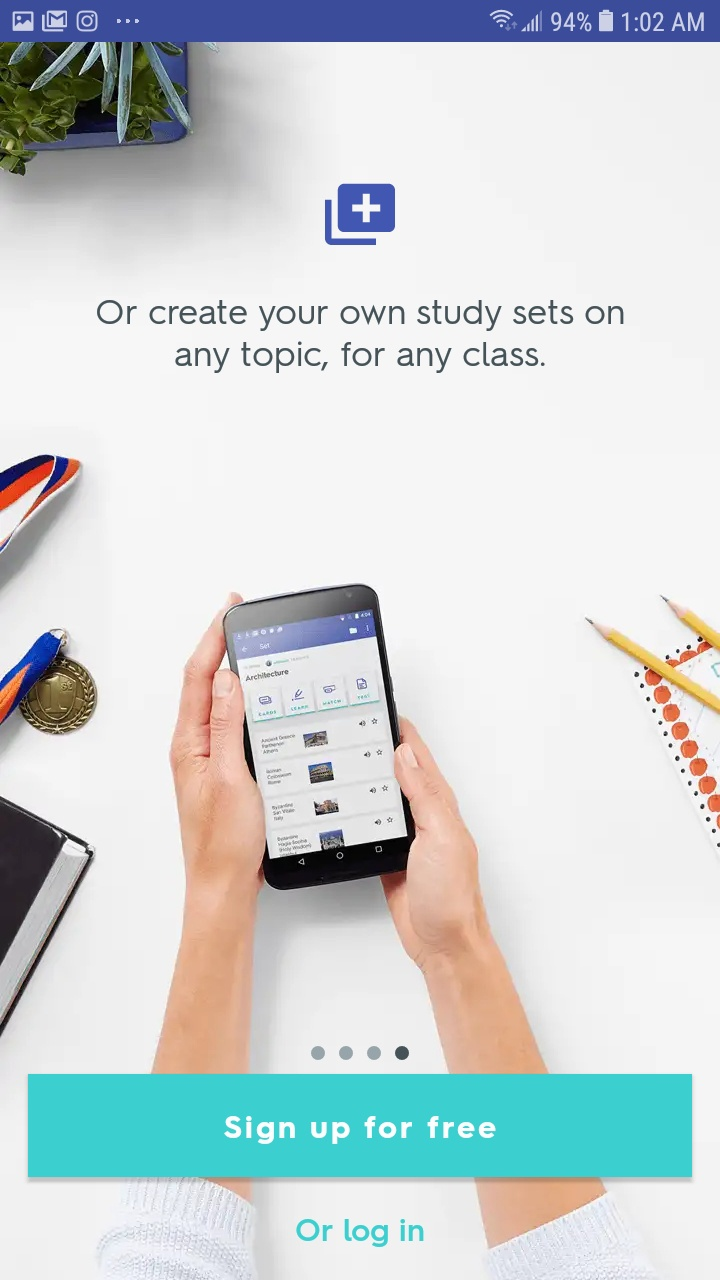BackgroundImage: (1, 43, 720, 1280)
Icon: (325, 183, 396, 246)
PageIndicator: (311, 1045, 410, 1061)
Text: (97, 300, 625, 374), (296, 1218, 424, 1248)
TextButton: (28, 1074, 692, 1177)
UpperTaskBar: (1, 1, 720, 43)
